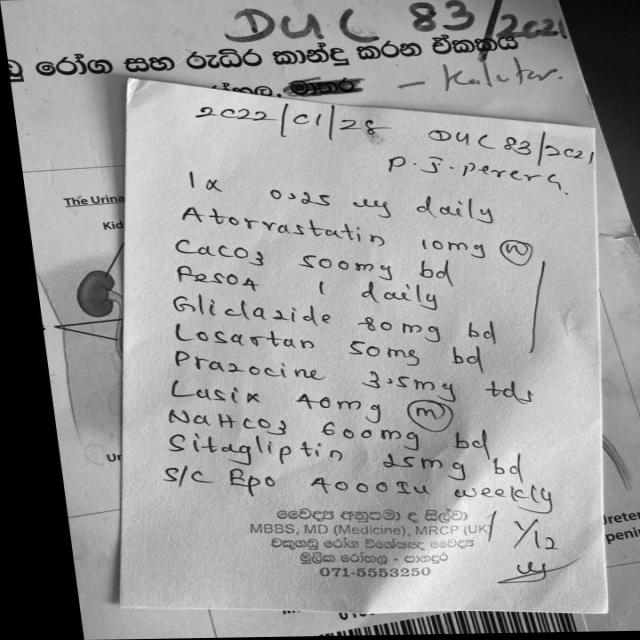Prescription: (143, 462, 562, 556), (168, 204, 531, 274), (159, 348, 526, 409), (150, 432, 518, 483), (163, 290, 492, 346), (161, 320, 477, 376), (151, 408, 482, 457), (161, 236, 452, 288), (155, 377, 445, 428), (162, 264, 433, 314)
